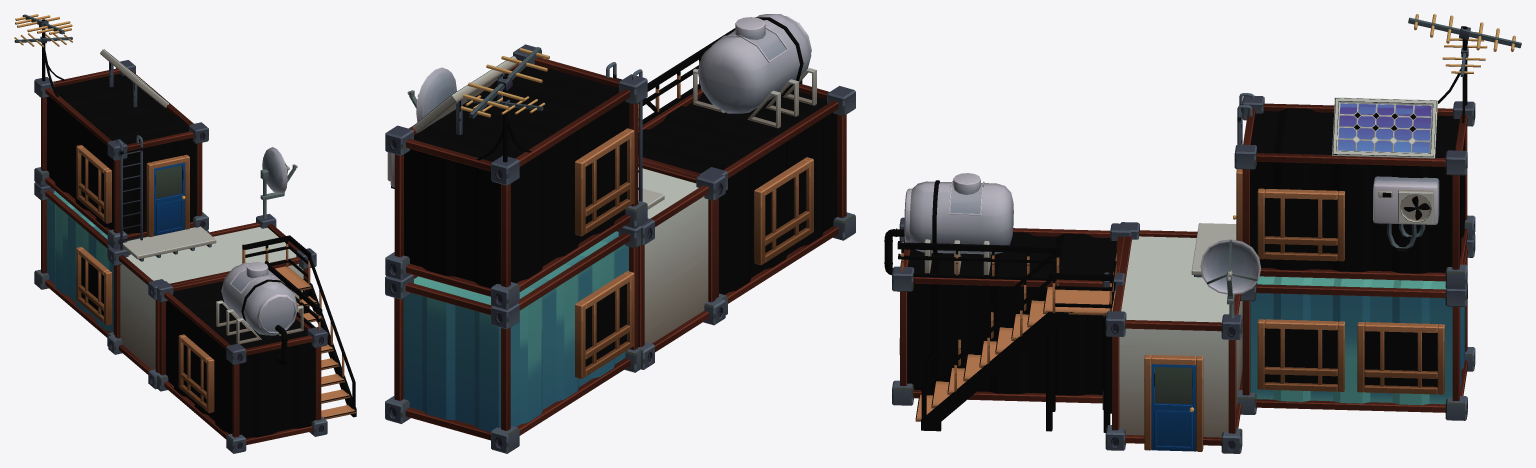
Rendered from house5.fbx.
3 renders of one model, left to right at view 1: azimuth 30°, elevation 25°; view 2: azimuth 150°, elevation 25°; view 3: azimuth 270°, elevation 25°, orthographic. The views are drawn at different scales.
Visible parts, largest first — view 1: finb_house_10.002; view 2: finb_house_10.002; view 3: finb_house_10.002.
Boxes of the visible parts, x1,y1,x2,y2 form: finb_house_10.002: (14,14,356,453); finb_house_10.002: (385,14,855,453); finb_house_10.002: (884,14,1521,453).
Bounding box in the file's own units: 612 × 825 × 1370.
1 material, 1 textured.
